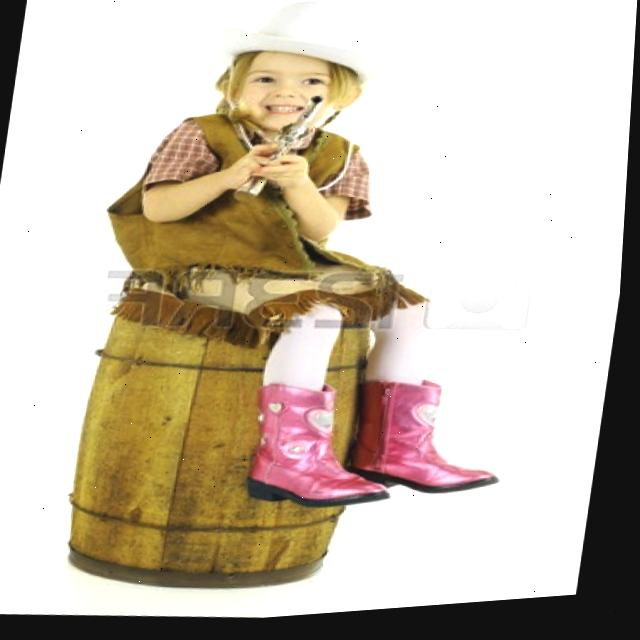pistol: (261, 92, 327, 171)
